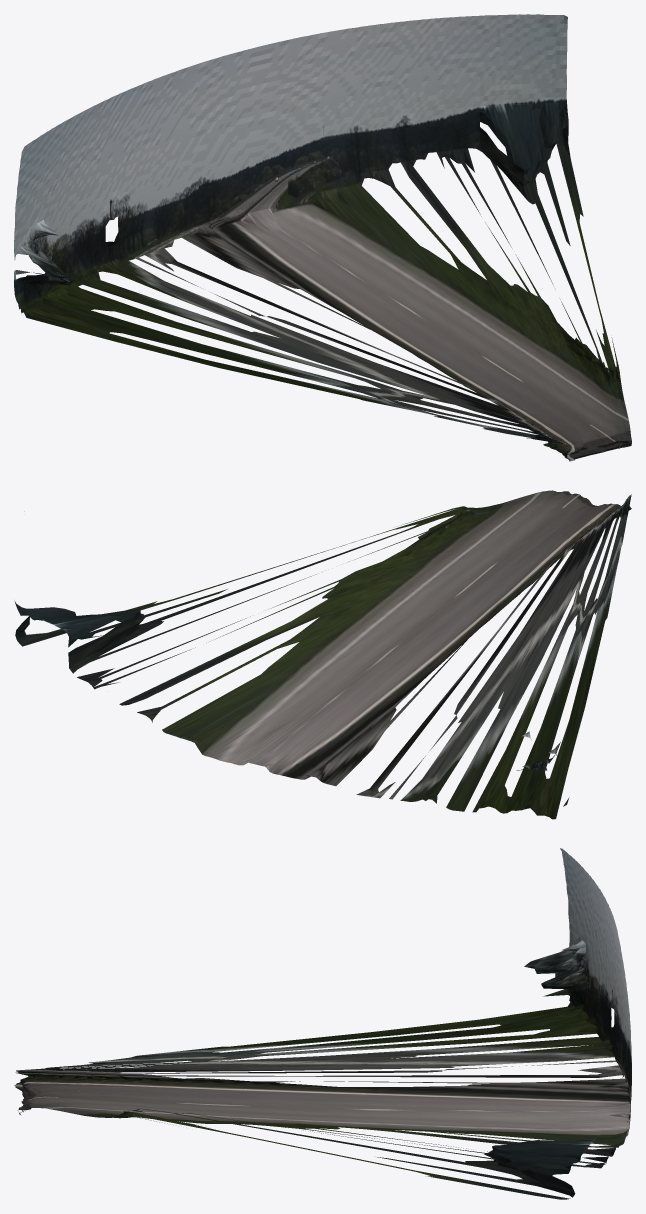
3 renders of one model, top to bottom at view 1: azimuth 30°, elevation 25°; view 2: azimuth 150°, elevation 25°; view 3: azimuth 270°, elevation 25°, orthographic. The views are drawn at different scales.
Parts seen in each view (by area): view 1: defaultobject; view 2: defaultobject; view 3: defaultobject.
Boxes of the visible parts, box(x1,y1,x2,y2) form: defaultobject: box(14, 14, 631, 461); defaultobject: box(14, 490, 631, 819); defaultobject: box(14, 848, 631, 1199).
Size of the model in its own units: 41.09 by 13.23 by 44.66.
1 material, 1 textured.
